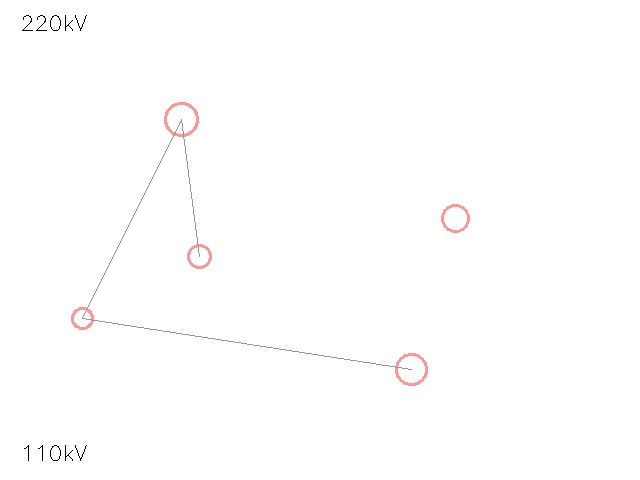current_transformer: (61, 297, 103, 339)
load_break_switch: (148, 86, 214, 152), (429, 192, 481, 244)
reactor: (380, 338, 442, 400)
surge_arrester: (177, 234, 221, 278)
